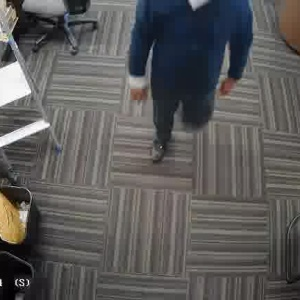person: (136, 0, 244, 151)
